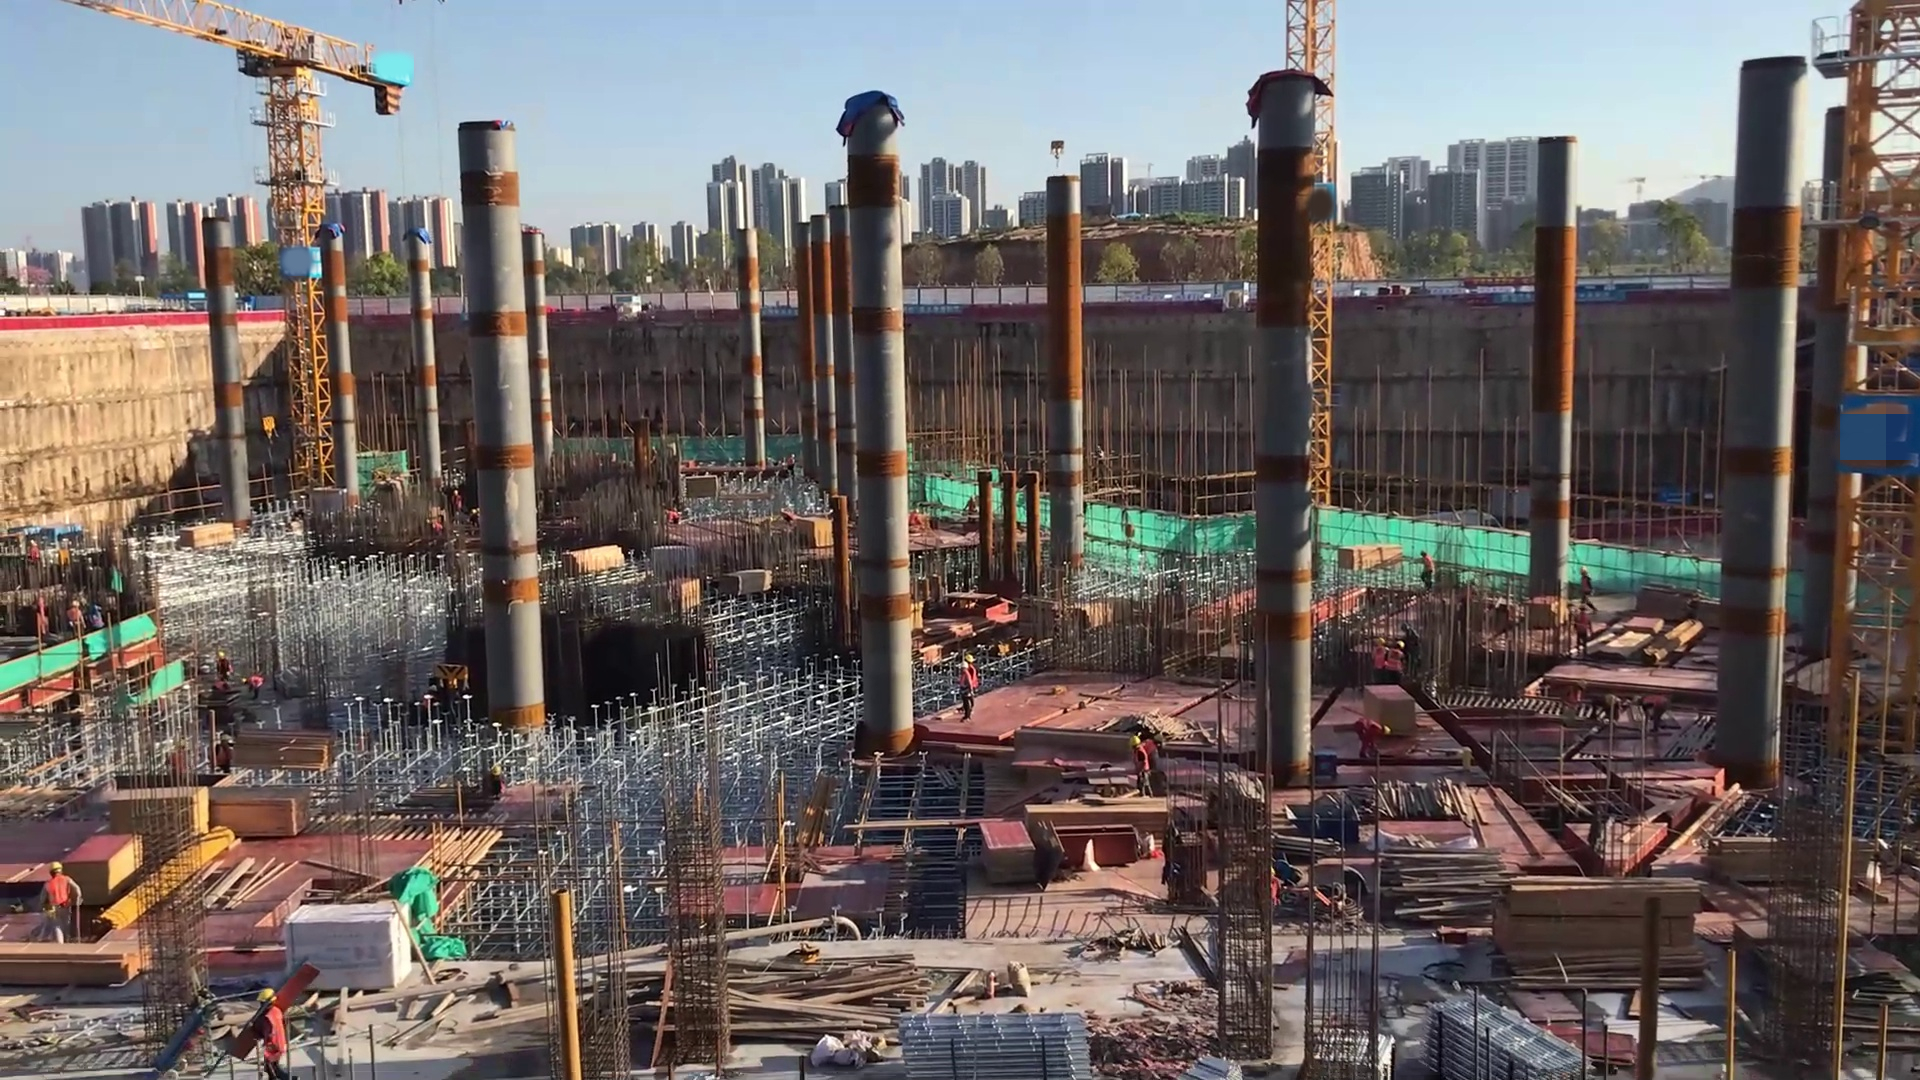board: (1528, 1019, 1642, 1079), (111, 786, 213, 846), (66, 830, 141, 908), (977, 816, 1037, 893), (795, 516, 838, 551)
helmet: (255, 986, 282, 1005), (48, 859, 67, 881), (1130, 733, 1145, 750), (1382, 719, 1393, 738), (69, 598, 82, 610), (1394, 639, 1408, 652), (956, 661, 971, 672), (964, 652, 976, 664), (1579, 600, 1589, 614), (219, 733, 232, 744), (217, 650, 228, 661), (1374, 636, 1385, 646), (1579, 567, 1589, 574), (242, 676, 248, 687)
hook: (1280, 799, 1365, 849), (248, 406, 291, 446)
person: (230, 986, 298, 1080), (33, 861, 88, 946), (1353, 714, 1395, 762), (1128, 730, 1152, 803), (1413, 545, 1439, 612), (1573, 601, 1602, 659), (955, 664, 978, 719), (1387, 638, 1413, 686), (963, 644, 980, 705), (213, 652, 235, 696), (67, 596, 85, 650), (1370, 635, 1390, 682), (1572, 562, 1599, 595), (214, 730, 233, 777), (242, 676, 265, 701), (92, 603, 111, 629), (452, 486, 464, 521)
scaffold: (1419, 987, 1624, 1080), (895, 1001, 1120, 1080)
slogan: (1572, 278, 1633, 303), (897, 302, 966, 319), (1494, 289, 1538, 309), (758, 309, 806, 326)
vest: (257, 1004, 290, 1068), (48, 876, 71, 912), (1359, 717, 1383, 741), (1133, 747, 1149, 775), (1389, 646, 1404, 675), (1372, 647, 1389, 668), (1421, 557, 1434, 574)
wood: (1494, 875, 1712, 991), (730, 948, 933, 1045), (1377, 844, 1527, 935), (1697, 839, 1877, 886), (1, 939, 142, 995), (1023, 804, 1177, 844), (206, 786, 316, 840), (233, 726, 336, 775), (560, 541, 625, 583), (1335, 543, 1407, 577), (712, 568, 778, 603), (184, 516, 237, 558)
